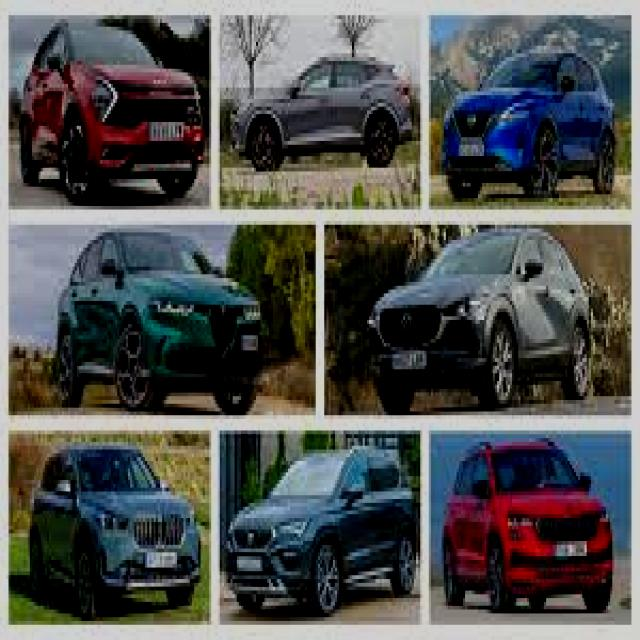SUV: (366, 225, 588, 408), (54, 227, 262, 413), (24, 21, 208, 205), (224, 450, 417, 620), (32, 446, 205, 621), (448, 436, 618, 610), (440, 44, 613, 194), (228, 57, 412, 174)
